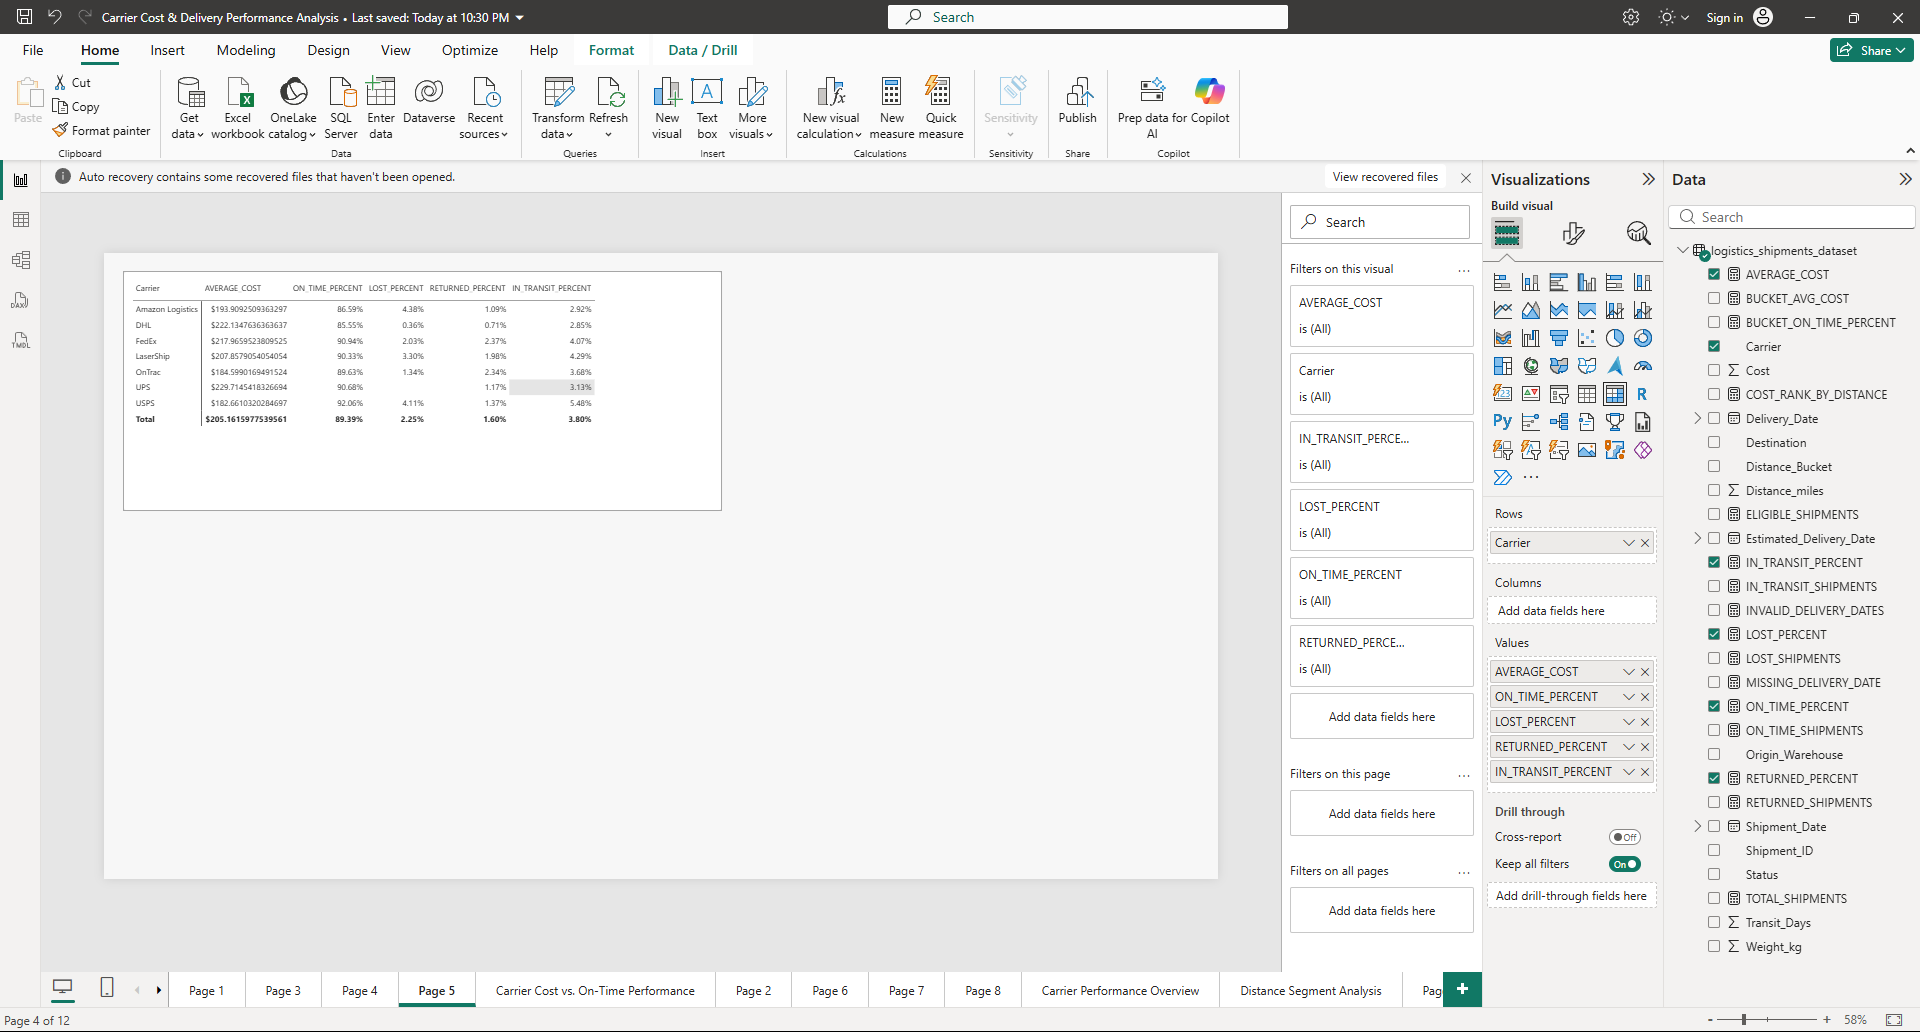

This screenshot's page, from the dashboard's own definition file:
{"tool":"powerbi","page":{"name":"Page 4","canvas":[1920,1080],"ordinal":2},"visuals":[{"type":"tableEx","fields":{"Values":["logistics_shipments_dataset.Carrier","logistics_shipments_dataset.MISSING_DELIVERY_DATE","logistics_shipments_dataset.INVALID_DELIVERY_DATES"]},"box":[49.5,167.2,1099.4,642.6],"z":0}]}

Visuals, with their boxes on the page's 1920x1080 design canvas (x1, y1, x2, y2). These are canvas units, not pixel positions in the 1920x1032 screenshot, which may show the page scaled, cropped or inside an application window:
tableEx - logistics_shipments_dataset.Carrier x logistics_shipments_dataset.MISSING_DELIVERY_DATE: 50, 167, 1149, 810
